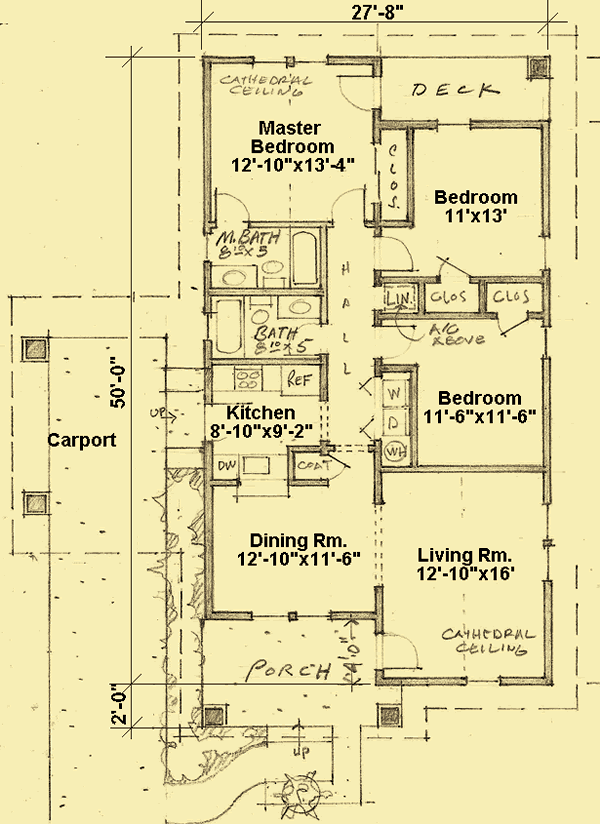door: (369, 626, 424, 676), (332, 69, 383, 115), (374, 320, 421, 362), (371, 233, 417, 275), (328, 183, 369, 229), (212, 186, 254, 225), (432, 253, 472, 286), (489, 309, 535, 336), (324, 448, 357, 482)
large sink: (255, 256, 294, 295), (244, 291, 277, 329)
small sink: (210, 261, 259, 294), (273, 291, 325, 322)
tub: (209, 289, 245, 362), (287, 225, 320, 290)
windows: (245, 602, 335, 627), (247, 48, 332, 70), (540, 494, 557, 589), (535, 227, 557, 271), (428, 112, 474, 133), (537, 324, 551, 363)
